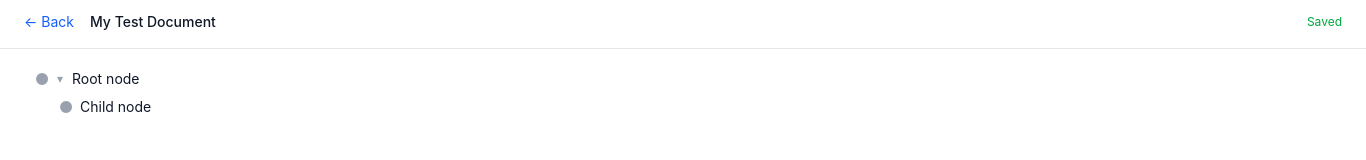
Test: EDIT-02 — Typing updates node content › Typing in a node input updates that node displayed value
In the 1st field showing "Root node": (711, 79) [72, 69, 1350, 89], type " extra"
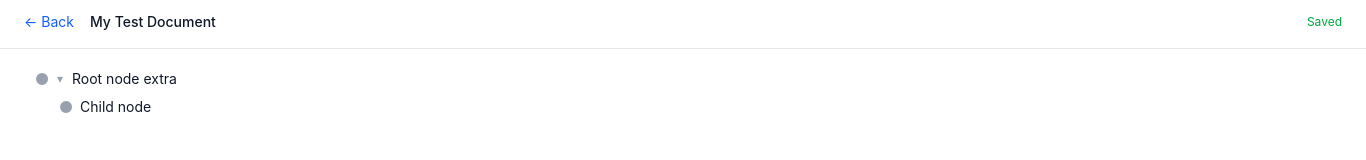
Now the 1st field showing "Root node extra" is shown, box [72, 69, 1350, 89]
